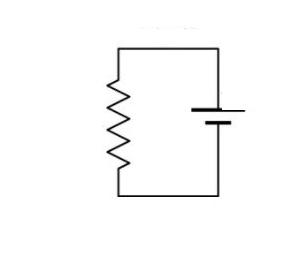resistor: (93, 66, 135, 184)
